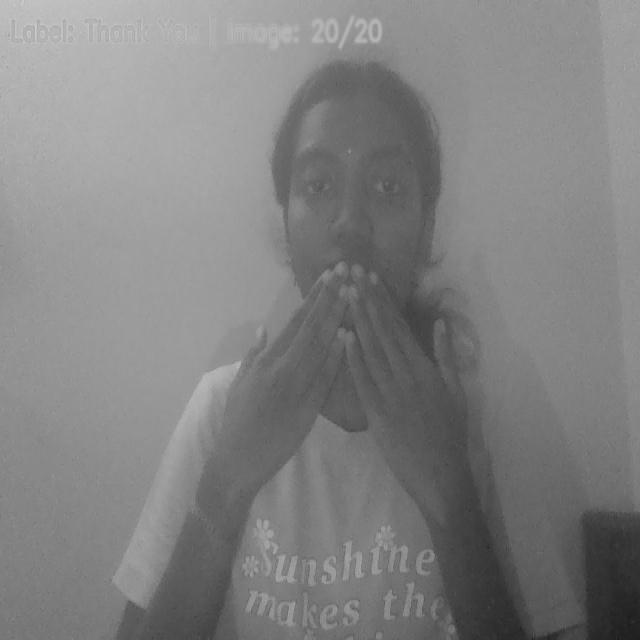Thank You: (204, 258, 476, 545)
